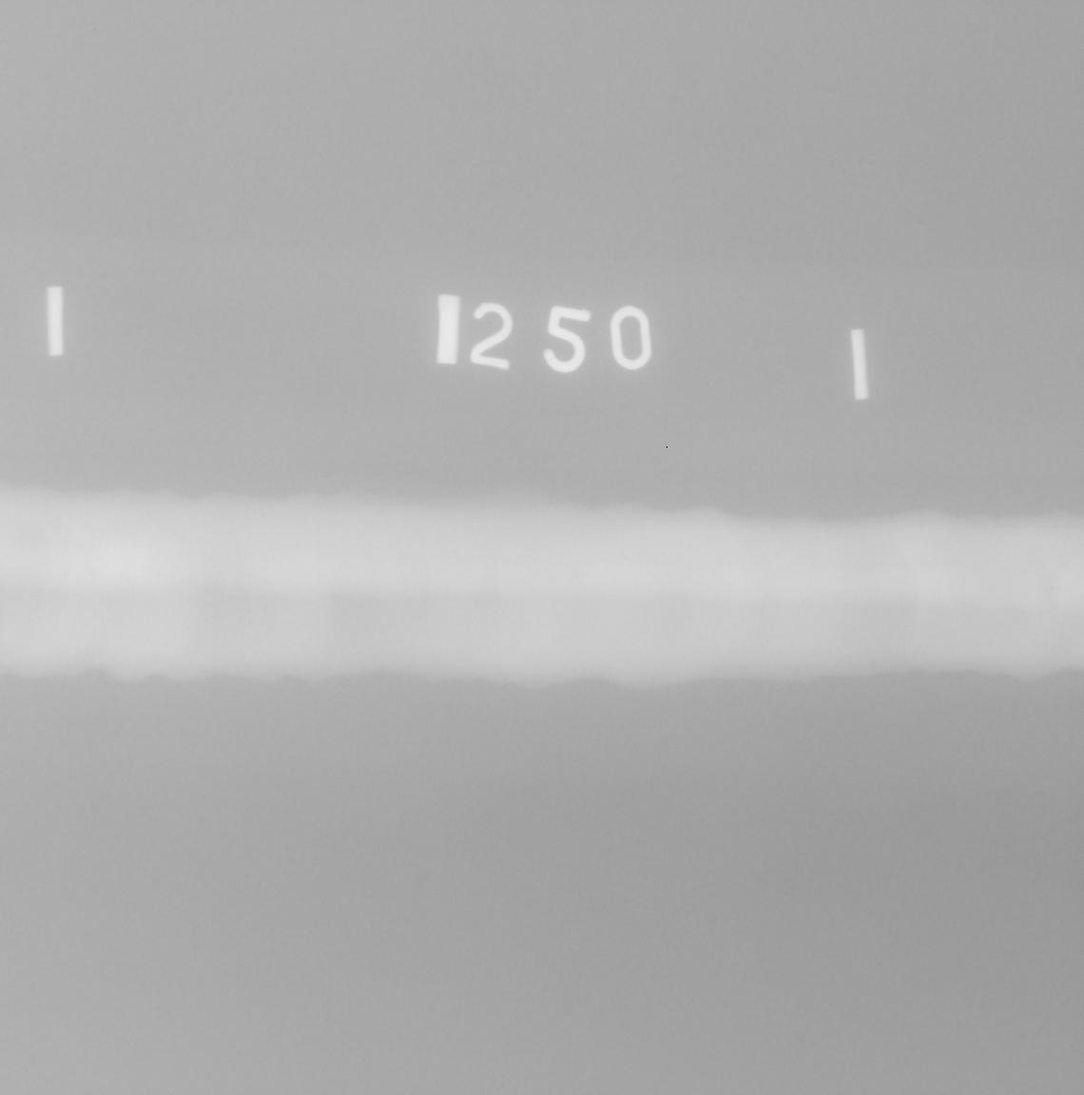Inclusion: (1049, 586, 1061, 592)
